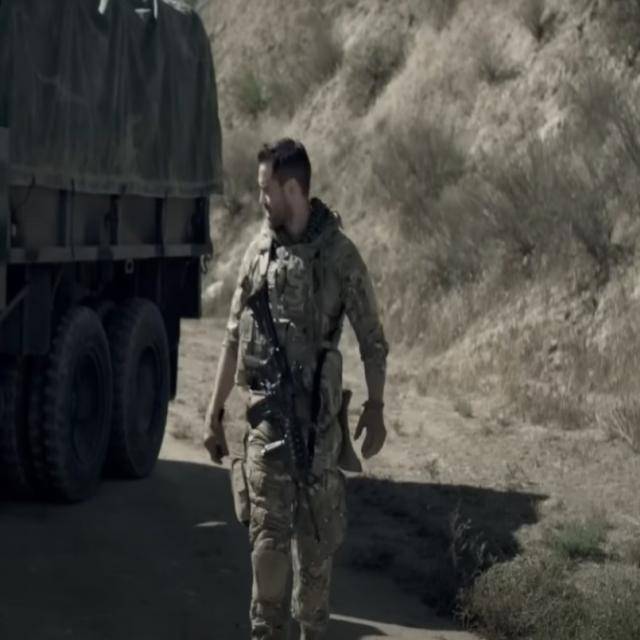m16: (222, 255, 354, 581)
